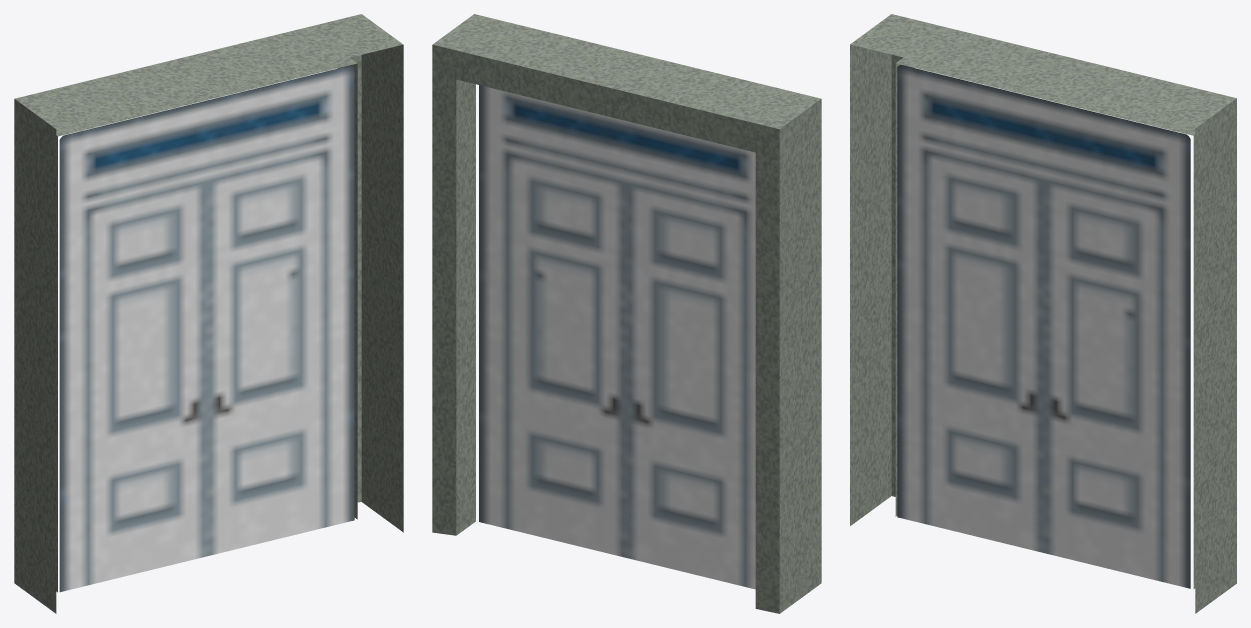
File: BGN_DOOR (1).fbx
3 renders of one model, left to right at view 1: azimuth 30°, elevation 25°; view 2: azimuth 150°, elevation 25°; view 3: azimuth 330°, elevation 25°, orthographic.
Visible parts, largest first — view 1: BGN_DOOR__1_; view 2: BGN_DOOR__1_; view 3: BGN_DOOR__1_.
Boxes of the visible parts, x1,y1,x2,y2 form: BGN_DOOR__1_: (14,14,403,613); BGN_DOOR__1_: (432,14,821,613); BGN_DOOR__1_: (850,14,1236,613).
Bounding box in the file's own units: 231 × 310 × 48.2.
